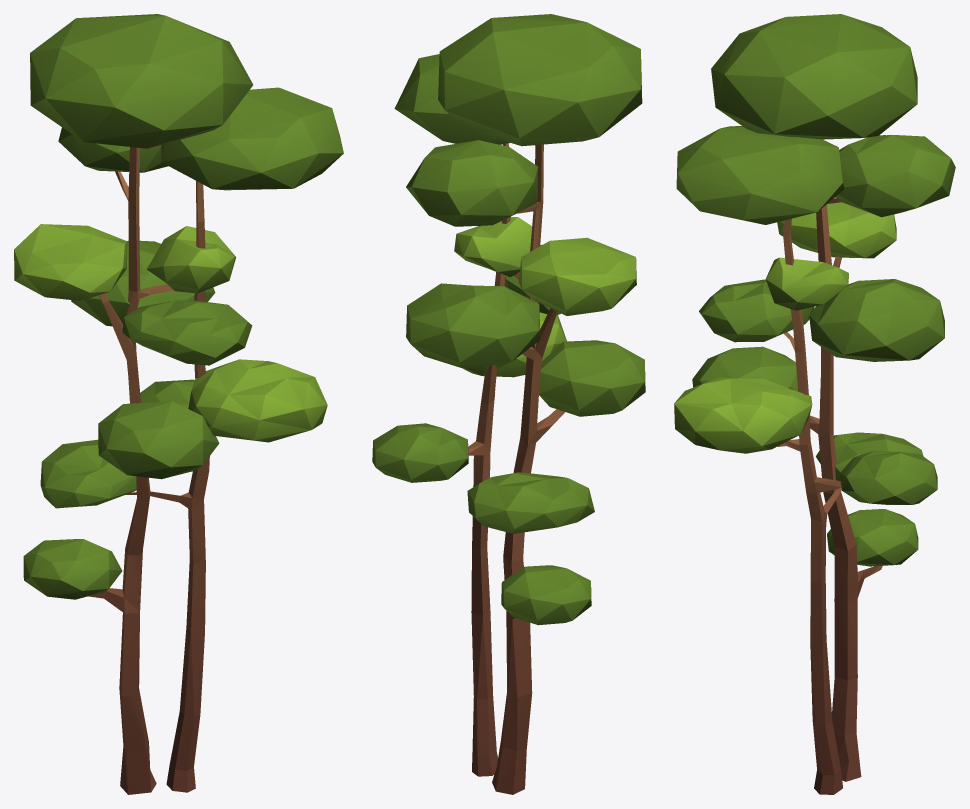
Rendered from ZLP_Plant_F_8.FBX.
The picture shows the model from 3 angles, left to right: view 1: azimuth 30°, elevation 25°; view 2: azimuth 150°, elevation 25°; view 3: azimuth 270°, elevation 25°; orthographic projection. The views are drawn at different scales.
Visible parts, largest first — view 1: ZLP_Plant_F_8; view 2: ZLP_Plant_F_8; view 3: ZLP_Plant_F_8.
Part boxes in pixels (box(x1,y1,x2,y2)): ZLP_Plant_F_8: box(14, 14, 343, 794); ZLP_Plant_F_8: box(372, 14, 645, 794); ZLP_Plant_F_8: box(674, 14, 955, 794).
Size of the model in its own units: 238 by 648 by 226.
